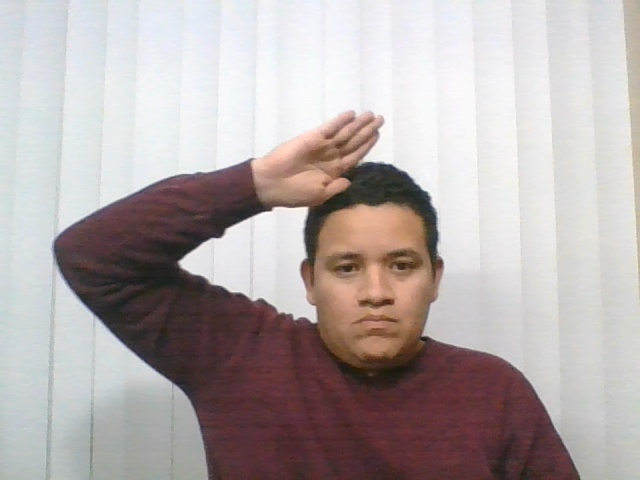Dad: (205, 92, 417, 245)
